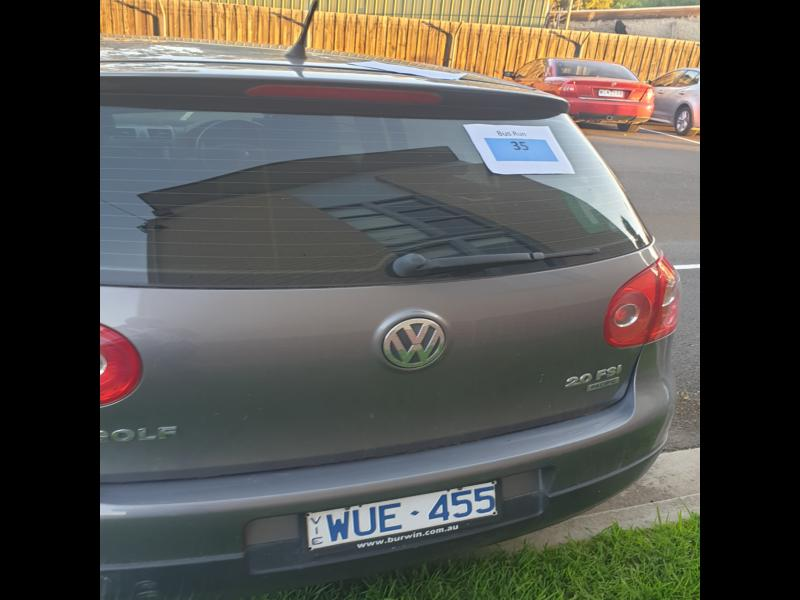BusRun: (486, 137, 558, 162)
PlateNo: (306, 481, 501, 554)
